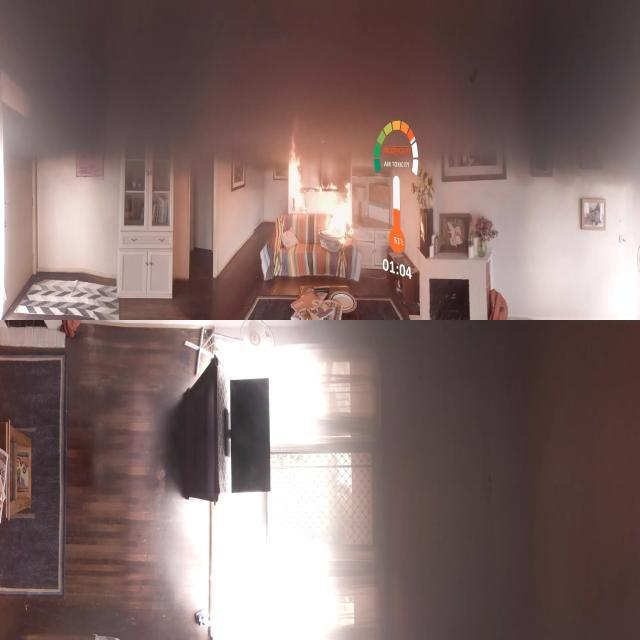Fire: (288, 138, 356, 242)
